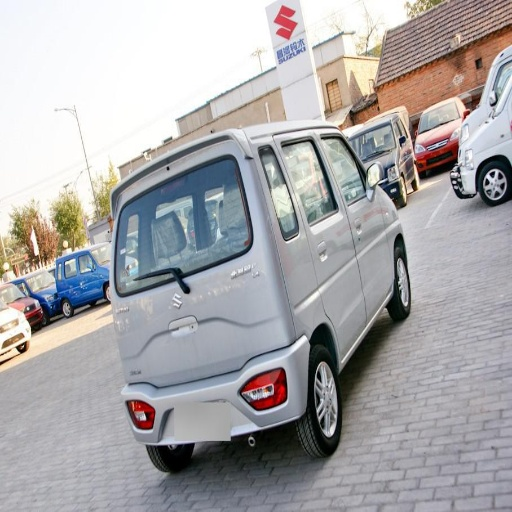trunk: (121, 299, 267, 386)
